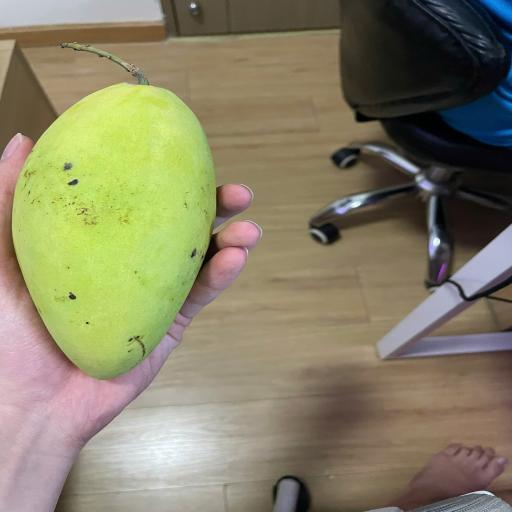xoai: (12, 83, 216, 379)
